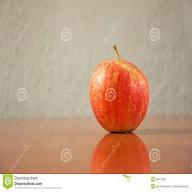apple: (89, 61, 148, 132)
